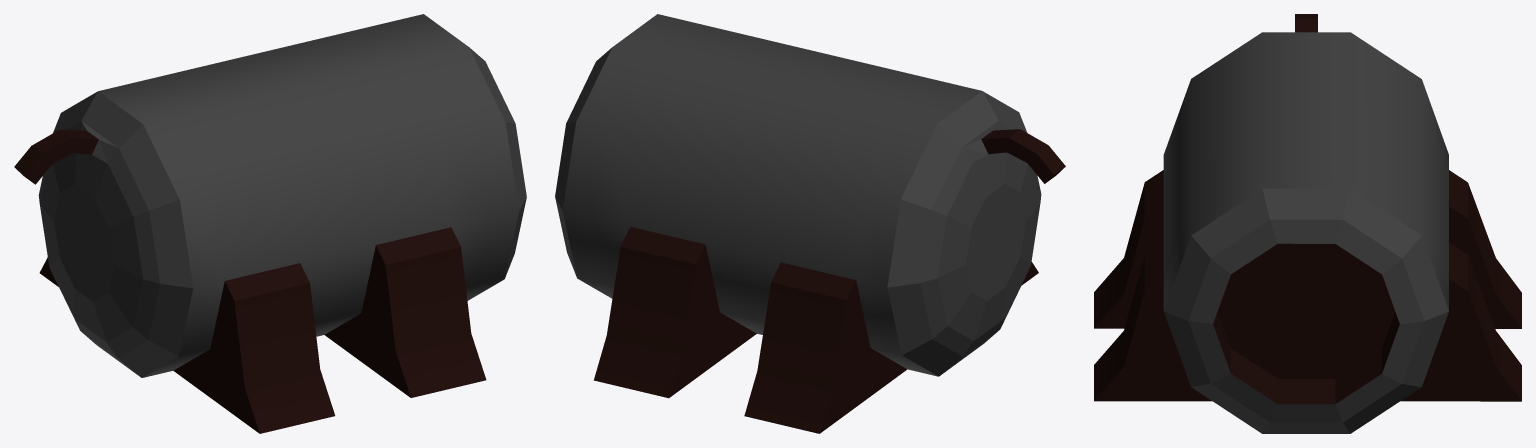
File: Cannon.FBX
3 renders of one model, left to right at view 1: azimuth 30°, elevation 25°; view 2: azimuth 150°, elevation 25°; view 3: azimuth 270°, elevation 25°, orthographic. The views are drawn at different scales.
Visible parts, largest first — view 1: Cannon; view 2: Cannon; view 3: Cannon.
Part boxes in pixels (<box>): Cannon: <box>14,14,526,433</box>; Cannon: <box>555,14,1065,433</box>; Cannon: <box>1094,14,1521,433</box>.
Bounding box in the file's own units: 22.99 × 12.4 × 19.38.
